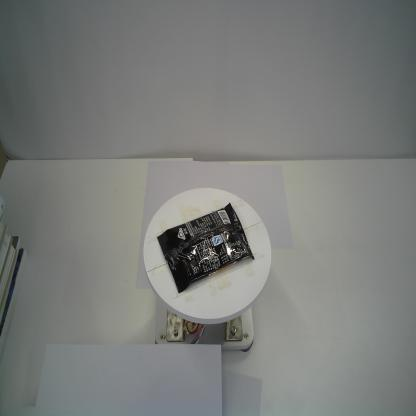Instant Drink: (157, 201, 254, 295)
